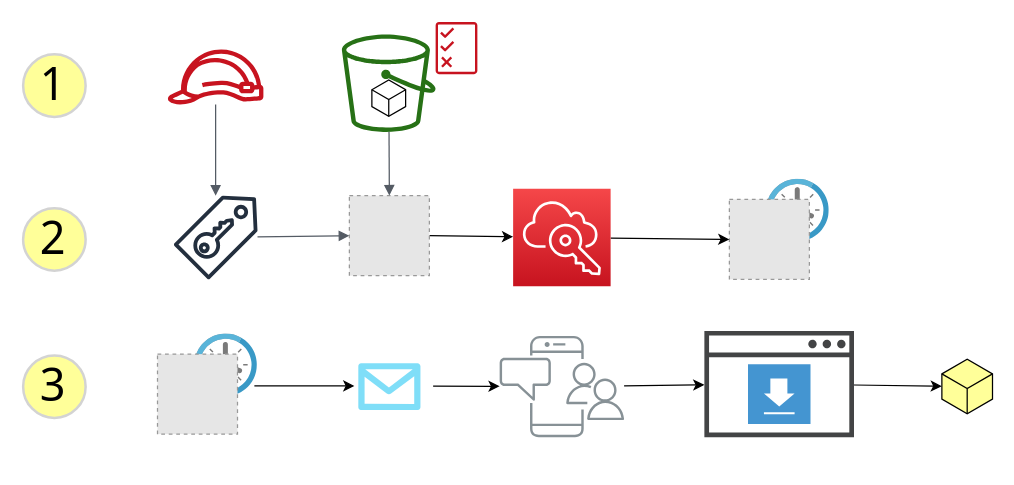
Image size: 1014x485. Some labels were removed from this diagram. Grey dashed boxes stand in for pictures. Here are the shapes that lost their labels. From the top down, the box of each, then its label:
(166, 49, 264, 104): s3:GetBucket
(499, 335, 624, 436): End-User
